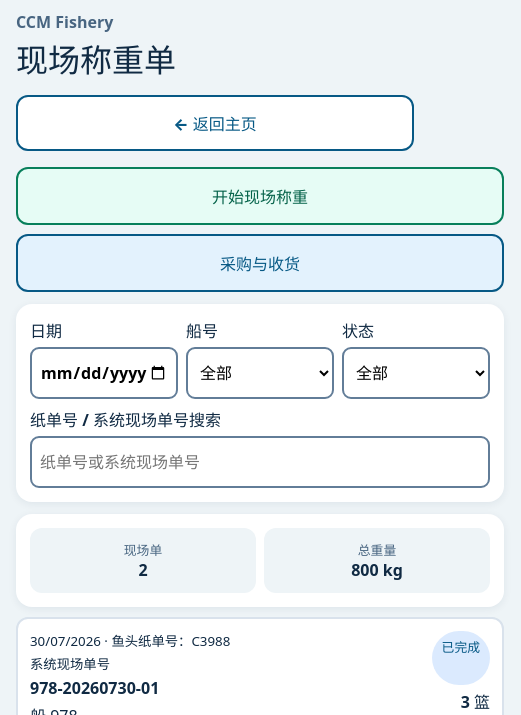
Test case: 现场称重电脑端复核 › 按日期、船号及状态筛选现场单
Expected: the text "978-20260730-01" is shown, x1=30 y1=677 x2=159 y2=699
Step 1. Select "称重中" in the dropdown labelled "状态" → (416, 373), box x1=342 y1=347 x2=490 y2=399
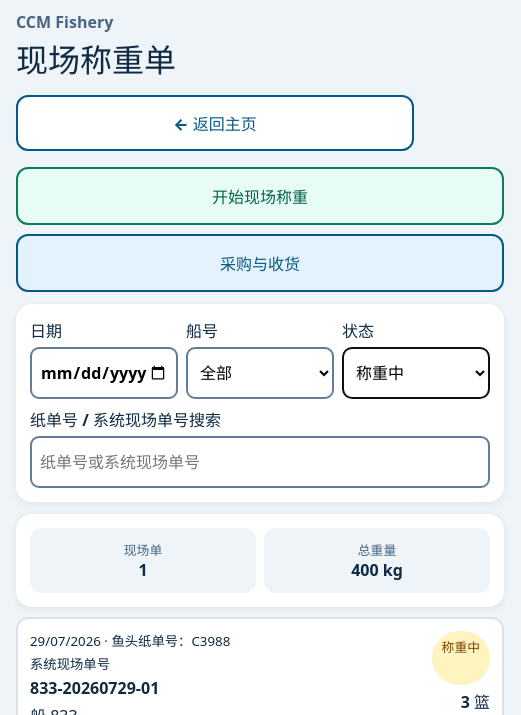
Expected: the text "833-20260729-01" is shown, x1=30 y1=677 x2=159 y2=699
Expected: the link "978-20260730-01" is gone
Step 2. Select "978" in the dropdown labelled "船号" → (260, 373), box x1=186 y1=347 x2=334 y2=399
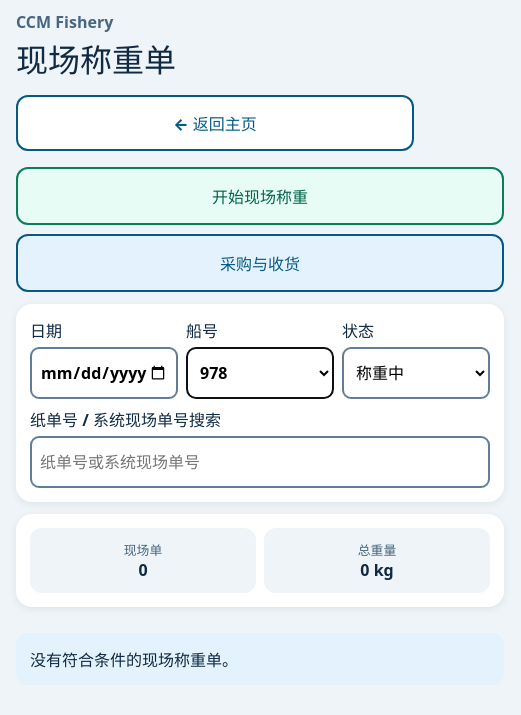
Expected: the link "833-20260729-01" is gone
